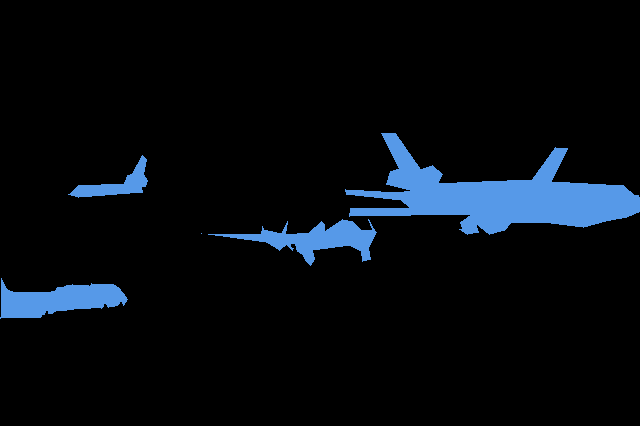Airplane: (345, 133, 640, 235), (201, 219, 376, 265), (0, 278, 127, 319), (68, 155, 147, 197)
